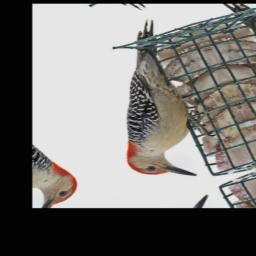Woodpecker: (61, 17, 235, 193)
